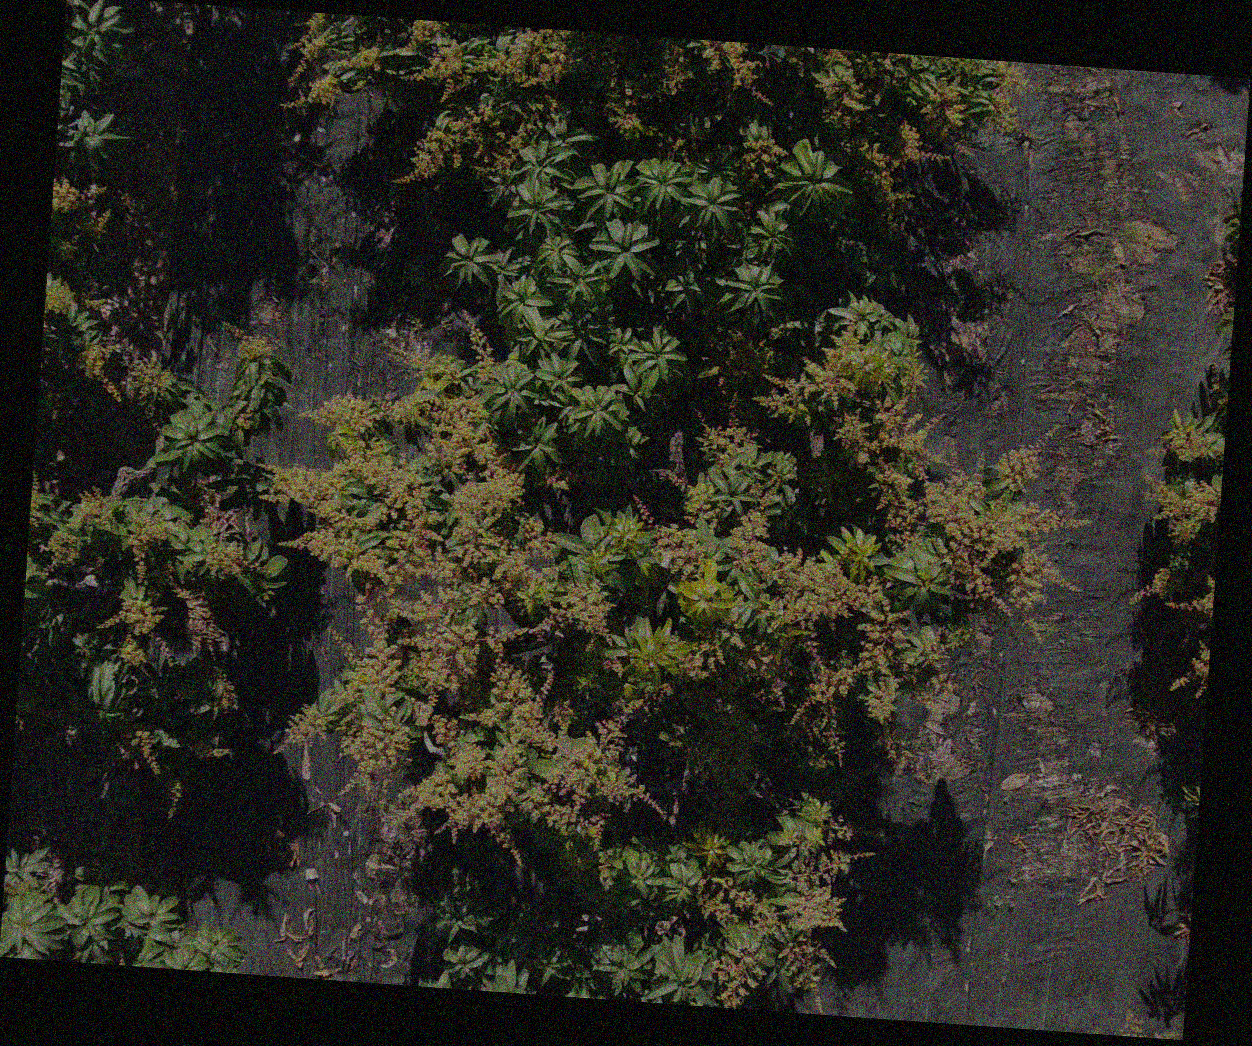flowers: (259, 385, 648, 840), (756, 302, 1062, 596), (683, 538, 886, 815), (403, 91, 555, 186), (839, 119, 937, 234), (74, 330, 182, 415), (781, 849, 843, 993), (860, 623, 942, 725), (37, 489, 125, 578), (654, 432, 716, 519), (1144, 473, 1219, 545), (493, 28, 572, 88), (770, 794, 852, 852), (812, 49, 870, 129), (697, 42, 773, 102), (696, 878, 778, 930), (996, 422, 1054, 493), (98, 576, 165, 635), (695, 402, 758, 464), (48, 209, 107, 267), (984, 61, 1025, 134), (711, 947, 761, 1008), (419, 40, 465, 99), (654, 526, 706, 578), (127, 512, 166, 575), (458, 311, 495, 377), (921, 79, 962, 139), (1160, 413, 1210, 462), (291, 12, 324, 82), (740, 137, 786, 186), (204, 541, 257, 581), (220, 323, 273, 363), (1169, 642, 1207, 696), (284, 75, 341, 110), (51, 178, 102, 217), (1166, 575, 1212, 618), (658, 44, 693, 99), (43, 274, 73, 337), (129, 729, 162, 776), (1118, 1012, 1179, 1037), (210, 666, 238, 714), (409, 20, 449, 49), (189, 735, 229, 759), (118, 634, 146, 668), (780, 46, 812, 74), (41, 858, 63, 895), (544, 465, 575, 490), (3, 877, 35, 897), (30, 472, 42, 526), (817, 49, 849, 66)
